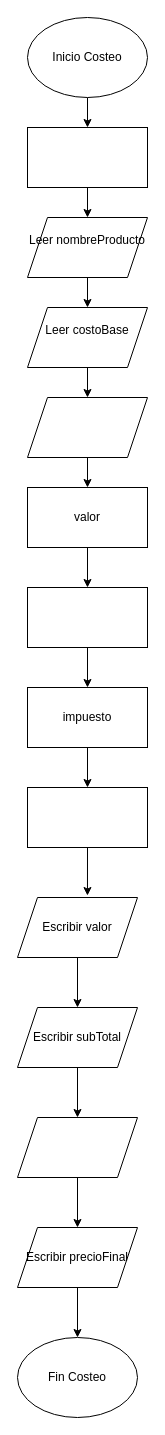
Image size: 165x1435. Some labels were removed from this diagram. Here are the shapes that lost their labels. From the top down, the centre of each, then its label:
the point at 87,157: IVA
the point at 87,427: Leer porcentajeGanancia
the point at 87,617: subTotal
the point at 87,817: precioFinal
the point at 77,1147: Escribir impuesto
